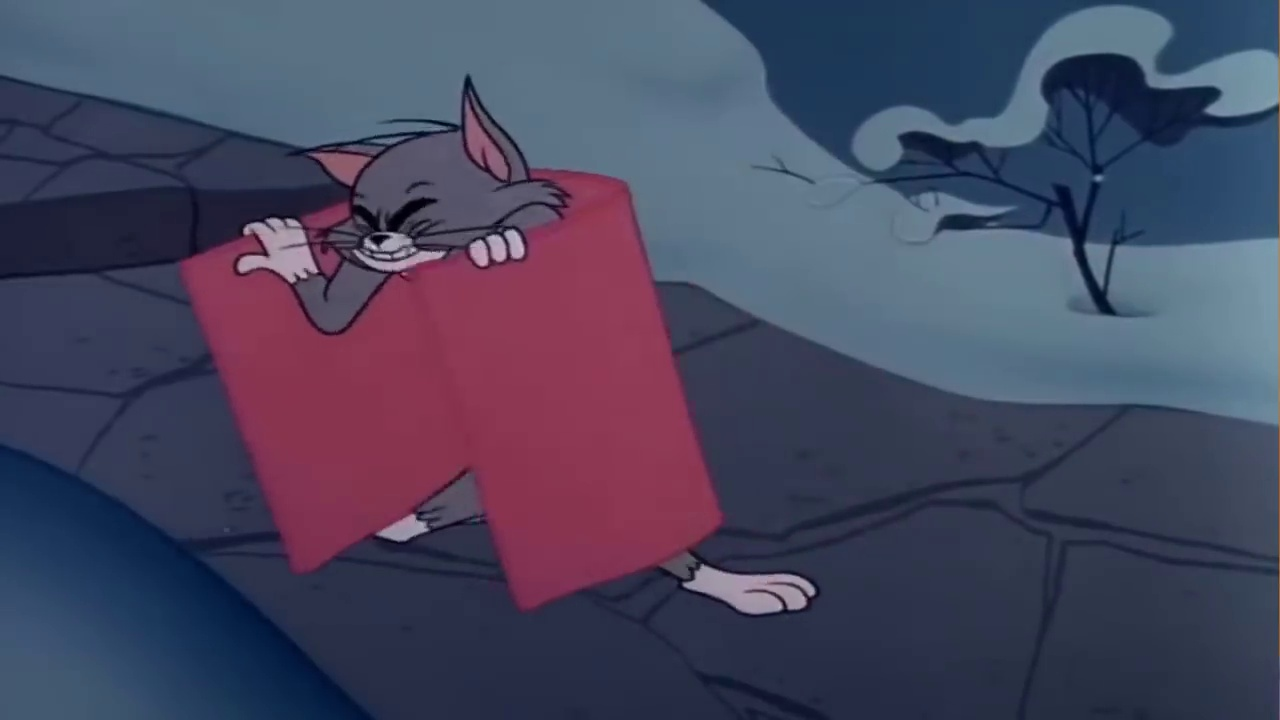face: (335, 186, 462, 270)
